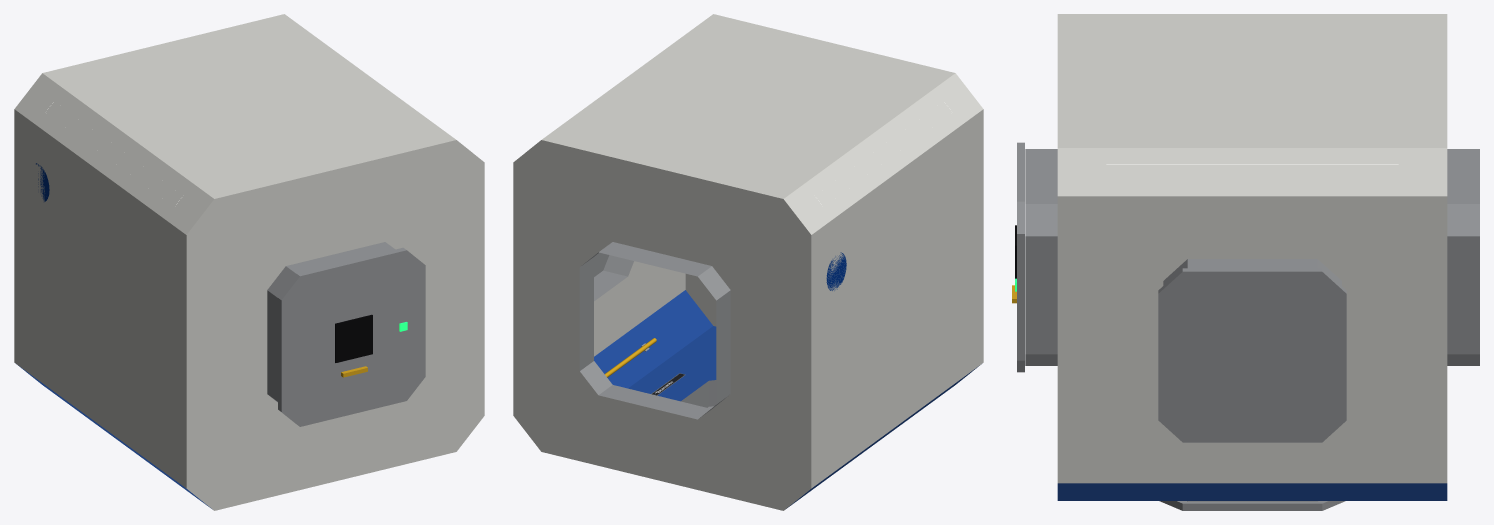
The model's file is Layout_Nodo_Montevideo.fbx.
3 renders of one model, left to right at view 1: azimuth 30°, elevation 25°; view 2: azimuth 150°, elevation 25°; view 3: azimuth 270°, elevation 25°, orthographic. The views are drawn at different scales.
Parts seen in each view (by area): view 1: Casco_Nodo, Escotilla_HaciaTacuarembo; view 2: Casco_Nodo, Reloj; view 3: Casco_Nodo, Escotilla_Acople2, Escotilla_HaciaTacuarembo, Escotilla_HaciaCupula.
Part boxes in pixels (x1=…): Casco_Nodo: x1=14, y1=14, x2=484, y2=510; Escotilla_HaciaTacuarembo: x1=278, y1=247, x2=425, y2=426; Casco_Nodo: x1=513, y1=14, x2=983, y2=510; Reloj: x1=826, y1=252, x2=846, y2=290; Casco_Nodo: x1=1025, y1=14, x2=1479, y2=501; Escotilla_Acople2: x1=1158, y1=268, x2=1346, y2=442; Escotilla_HaciaTacuarembo: x1=1012, y1=142, x2=1024, y2=372; Escotilla_HaciaCupula: x1=1159, y1=501, x2=1345, y2=510.
Bounding box in the file's own units: 2.65 × 2.68 × 2.88.
